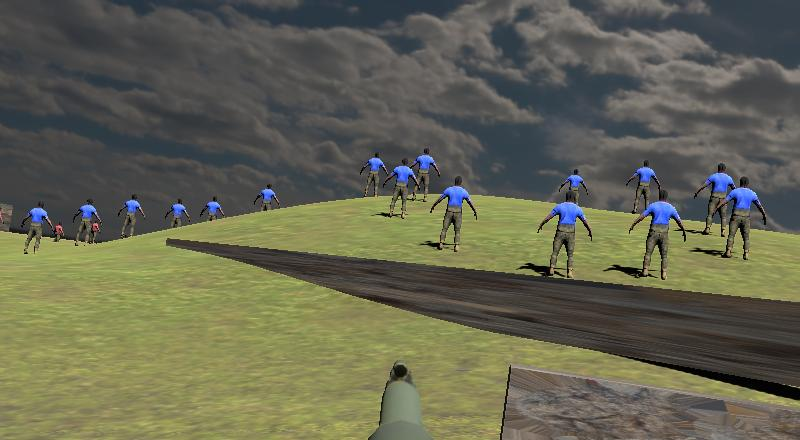Human: (628, 187, 686, 280), (537, 188, 593, 278), (714, 176, 767, 260), (429, 174, 478, 253), (694, 162, 740, 235), (383, 156, 419, 219), (626, 158, 662, 215), (21, 199, 54, 255), (411, 146, 441, 201), (559, 167, 589, 218), (72, 198, 102, 247), (360, 150, 389, 199), (118, 192, 145, 240), (253, 183, 280, 220)
